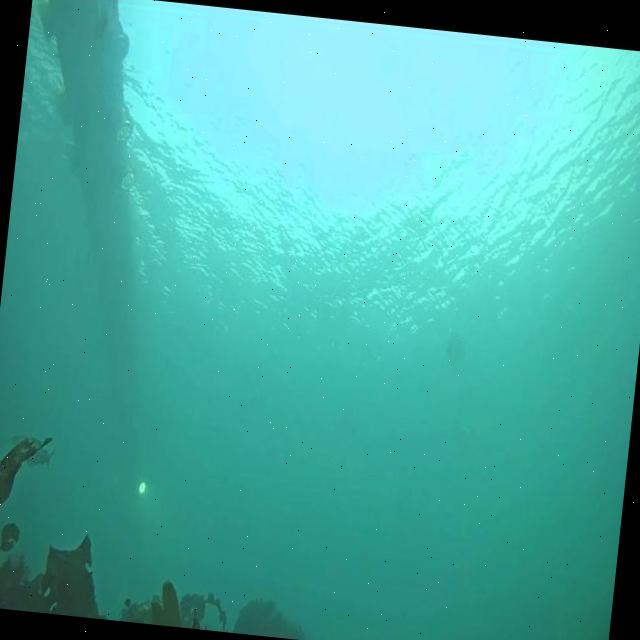fish: (7, 432, 56, 474)
